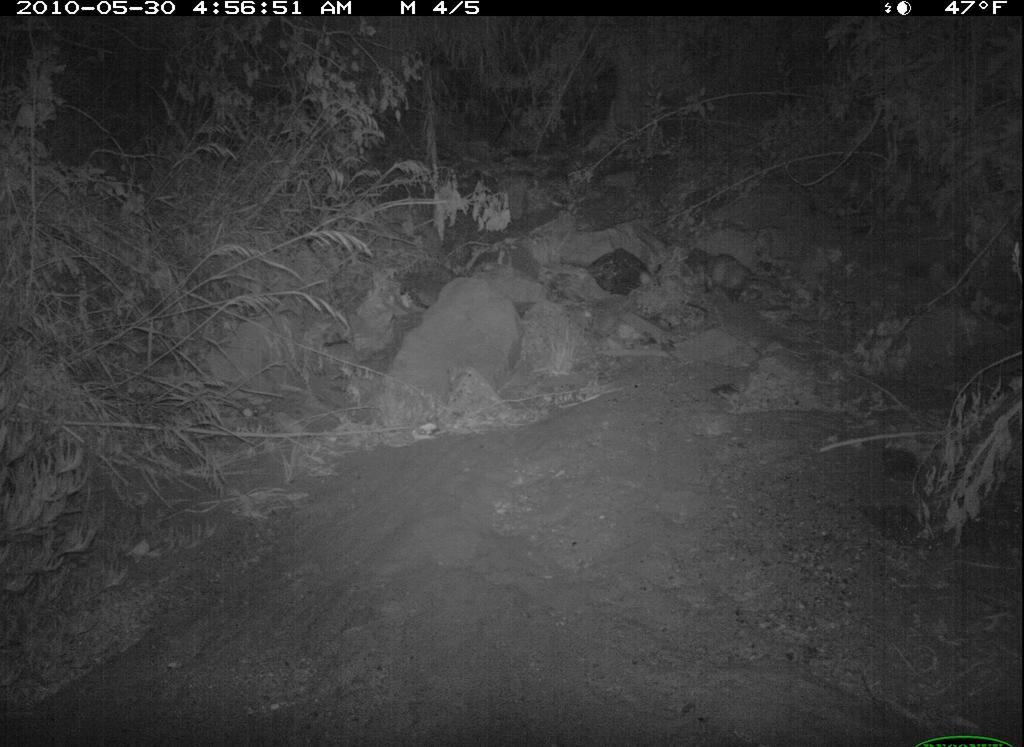opossum: (692, 246, 785, 304)
